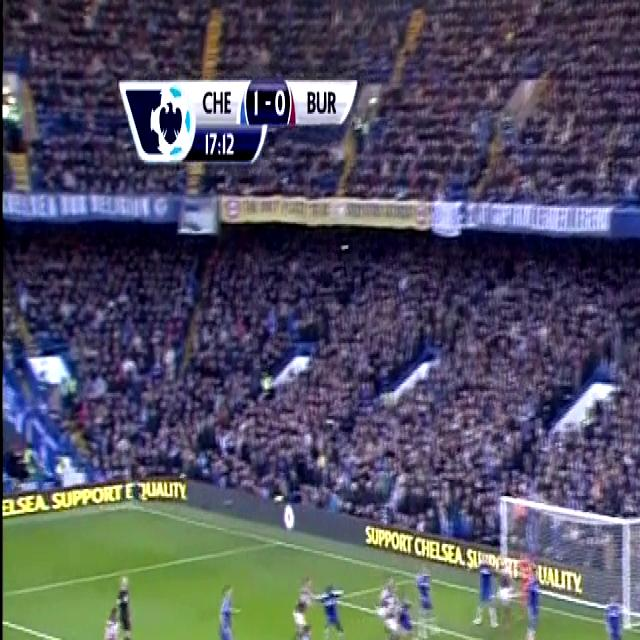referee: (115, 569, 138, 640)
soccer-player: (307, 572, 351, 640), (469, 547, 498, 636), (413, 560, 440, 640), (522, 560, 545, 640), (288, 563, 311, 640), (600, 581, 627, 640), (216, 579, 242, 640), (97, 604, 127, 640), (292, 622, 318, 640)
